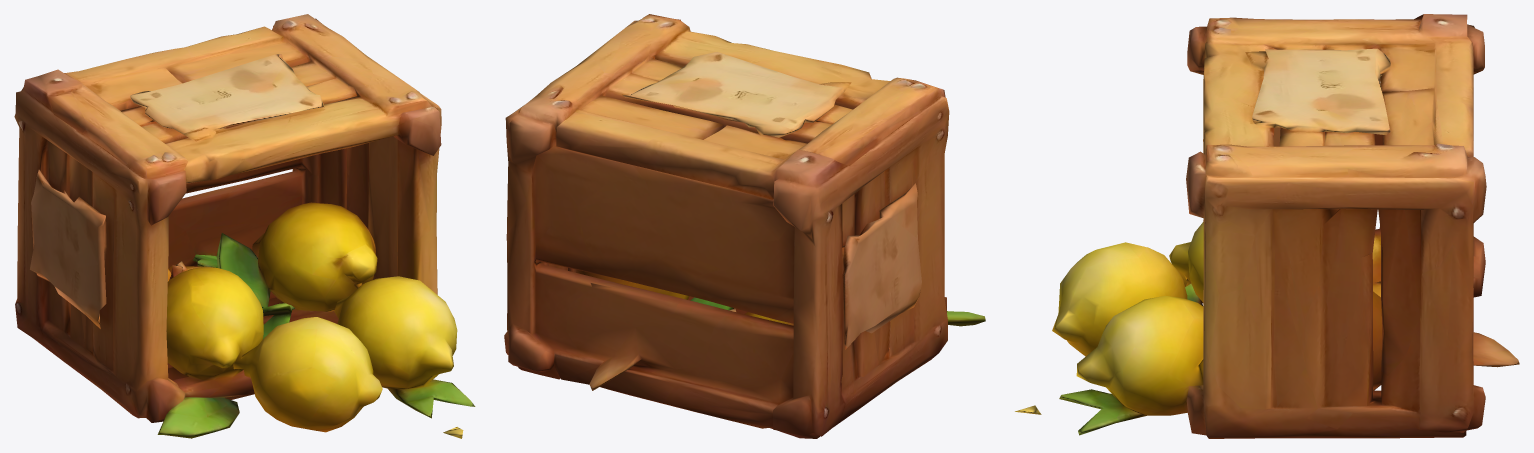
File: crate.glb
The picture shows the model from 3 angles, left to right: view 1: azimuth 30°, elevation 25°; view 2: azimuth 150°, elevation 25°; view 3: azimuth 270°, elevation 25°; orthographic projection. The views are drawn at different scales.
Parts seen in each view (by area): view 1: tripo_node_25cccda2-b680-4725-962b-c60780e2da5e; view 2: tripo_node_25cccda2-b680-4725-962b-c60780e2da5e; view 3: tripo_node_25cccda2-b680-4725-962b-c60780e2da5e.
Part boxes in pixels (x1,y1,x2,y2): tripo_node_25cccda2-b680-4725-962b-c60780e2da5e: (14, 14, 475, 438); tripo_node_25cccda2-b680-4725-962b-c60780e2da5e: (504, 14, 985, 438); tripo_node_25cccda2-b680-4725-962b-c60780e2da5e: (1015, 14, 1519, 438).
Bounding box in the file's own units: 0.7682 × 0.62 × 1.
Materials: 1 (1 with a texture image).
